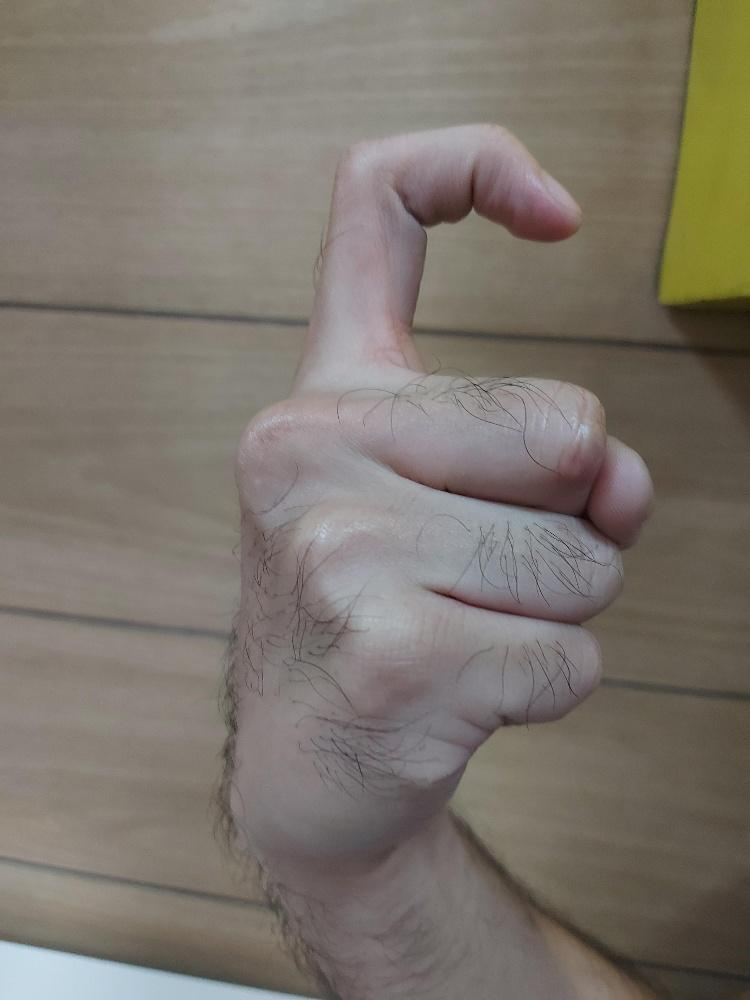x: (217, 120, 654, 872)
